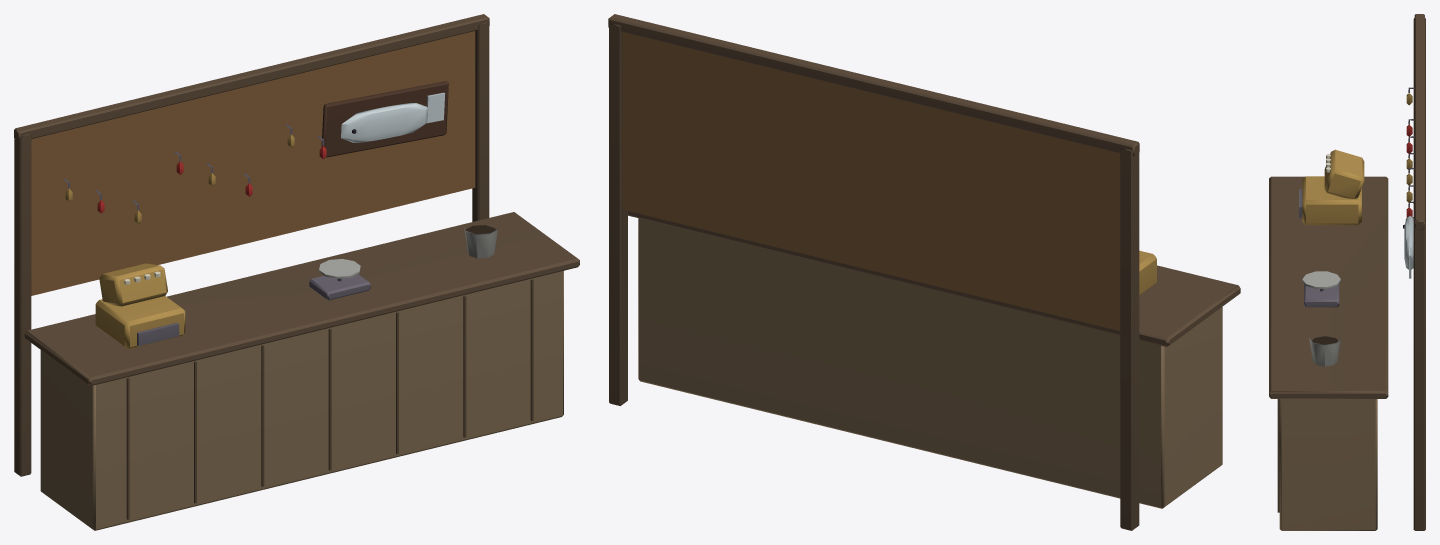
File: counter_tackle.glb
3 views of the same model, side by side, from view 1: azimuth 30°, elevation 25°; view 2: azimuth 150°, elevation 25°; view 3: azimuth 270°, elevation 25° (orthographic). The views are drawn at different scales.
Visible parts, largest first — view 1: counter_tackle; view 2: counter_tackle; view 3: counter_tackle.
Part boxes in pixels (<box>): counter_tackle: <box>14,14,579,530</box>; counter_tackle: <box>608,14,1240,530</box>; counter_tackle: <box>1269,14,1425,530</box>.
Bounding box in the file's own units: 2.92 × 1.96 × 0.895.
